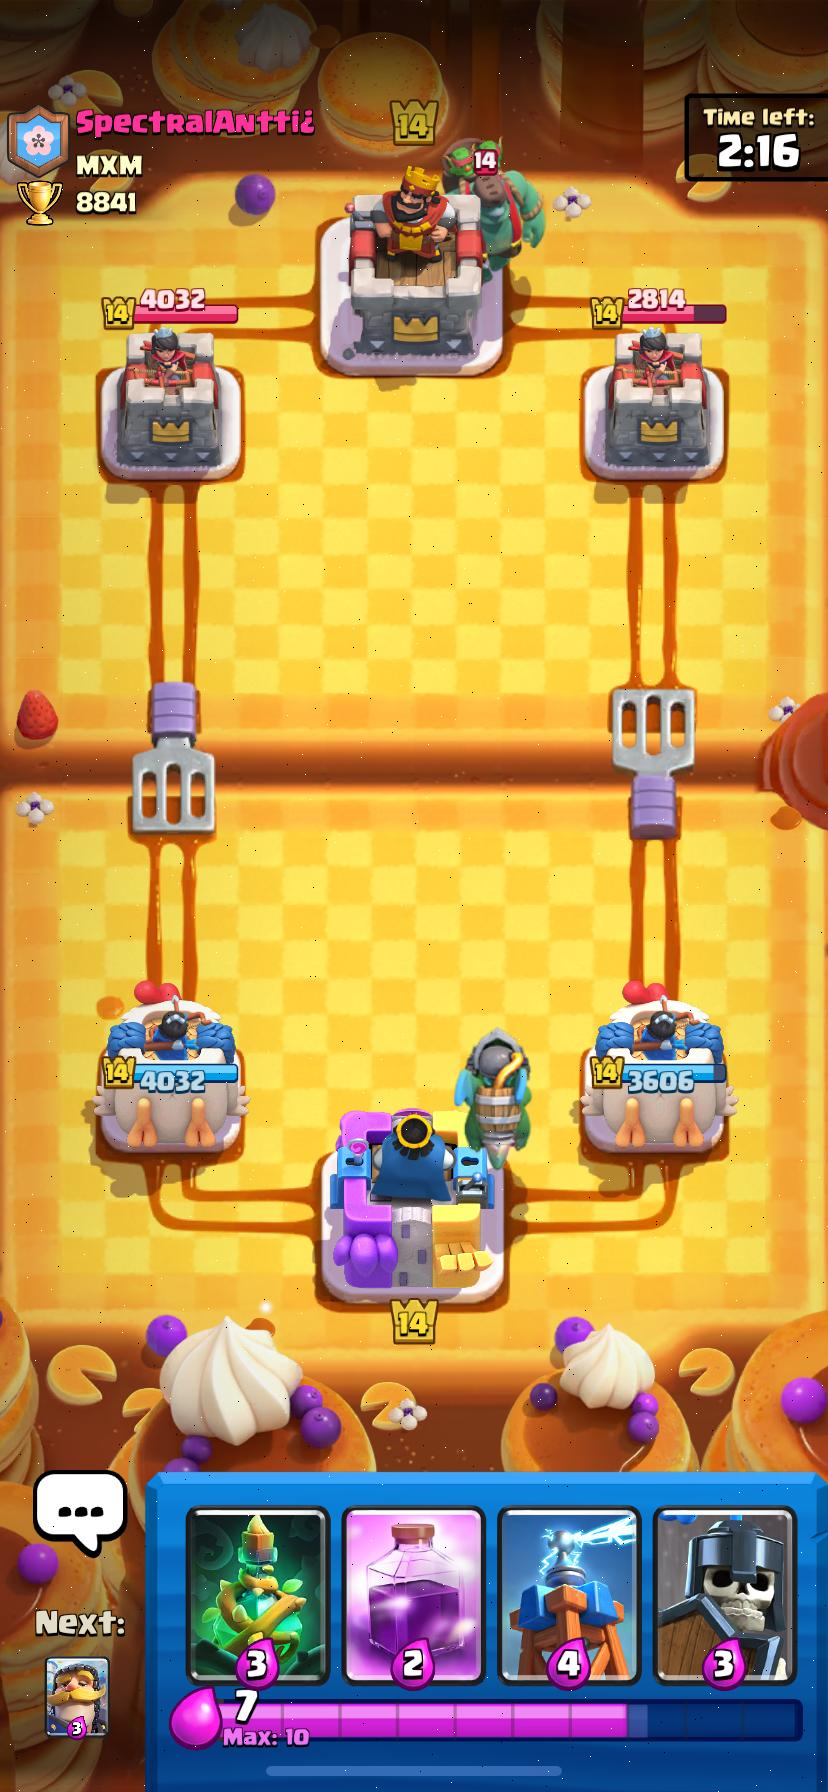EGoblinGiant: (443, 138, 544, 283)
EKingTower: (347, 168, 484, 370)
EnemyPrincessTower: (99, 326, 241, 481), (604, 327, 712, 479)
OInfernoDrag: (455, 1027, 531, 1166)
OwnKingTower: (323, 1109, 502, 1303)
OwnPrincessTower: (580, 982, 737, 1153), (93, 982, 248, 1152)
